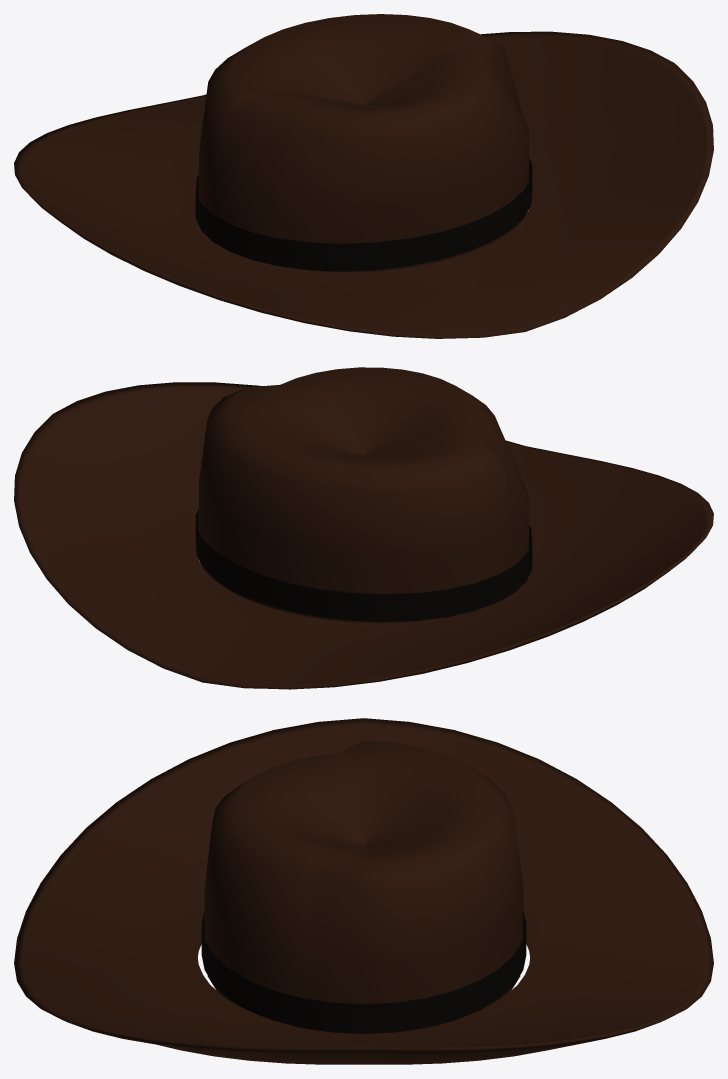
File: koboi.obj
3 renders of one model, top to bottom at view 1: azimuth 30°, elevation 25°; view 2: azimuth 150°, elevation 25°; view 3: azimuth 270°, elevation 25°, orthographic. The views are drawn at different scales.
Parts seen in each view (by area): view 1: koboi_tepi, koboi_mahkota, koboi_pita; view 2: koboi_tepi, koboi_mahkota, koboi_pita; view 3: koboi_tepi, koboi_mahkota, koboi_pita.
Part boxes in pixels (x1,y1,x2,y2): koboi_tepi: (14, 31, 713, 338); koboi_mahkota: (199, 14, 528, 272); koboi_pita: (195, 158, 532, 271); koboi_tepi: (14, 382, 713, 689); koboi_mahkota: (199, 367, 528, 622); koboi_pita: (195, 508, 532, 622); koboi_tepi: (14, 718, 713, 1064); koboi_mahkota: (204, 740, 523, 1016); koboi_pita: (201, 910, 526, 1033).
Size of the model in its own units: 4.2 by 0.9766 by 3.78.
